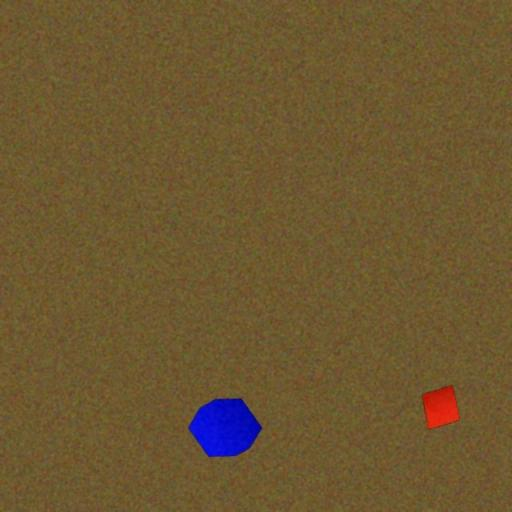RED_SQUARE: (421, 384, 461, 430)
